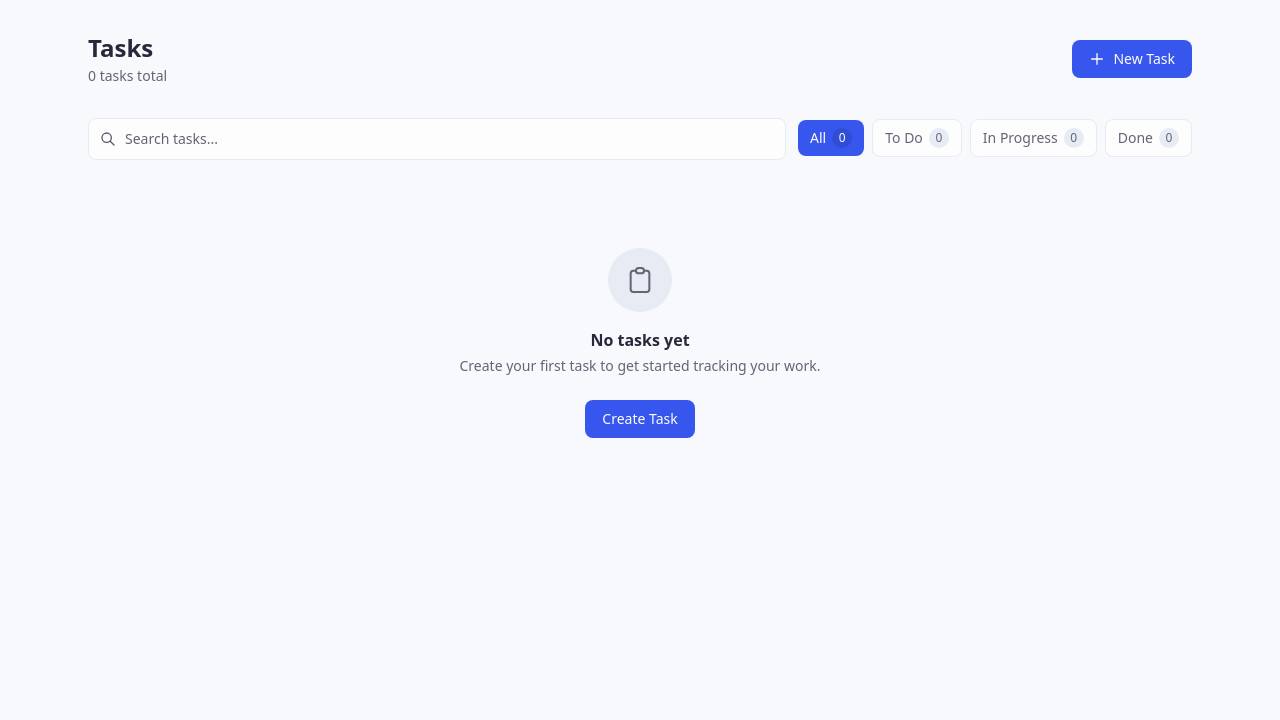
Scenario: Dashboard › closes create task modal when Cancel is clicked
The image size is (1280, 720).
Click the button "New Task".
click(1132, 59)  # box x1=1072 y1=40 x2=1192 y2=78
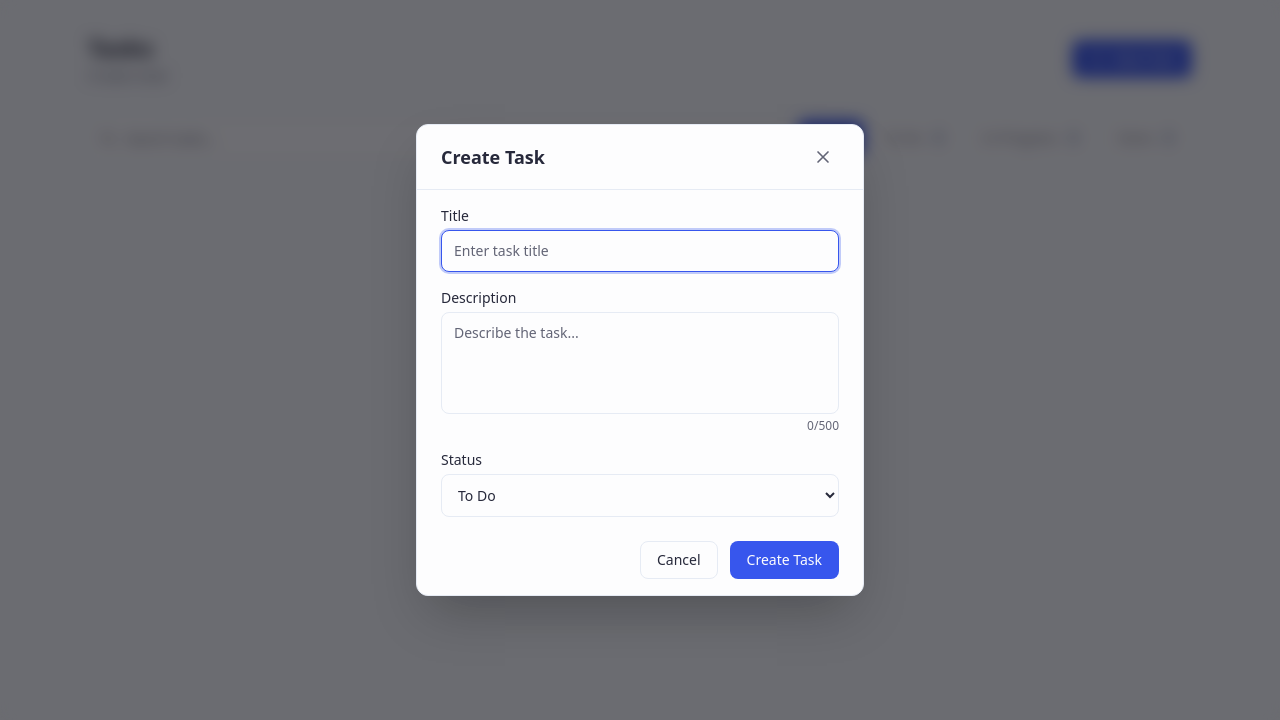
Click the button "Cancel".
click(679, 560)  # box x1=640 y1=541 x2=718 y2=579
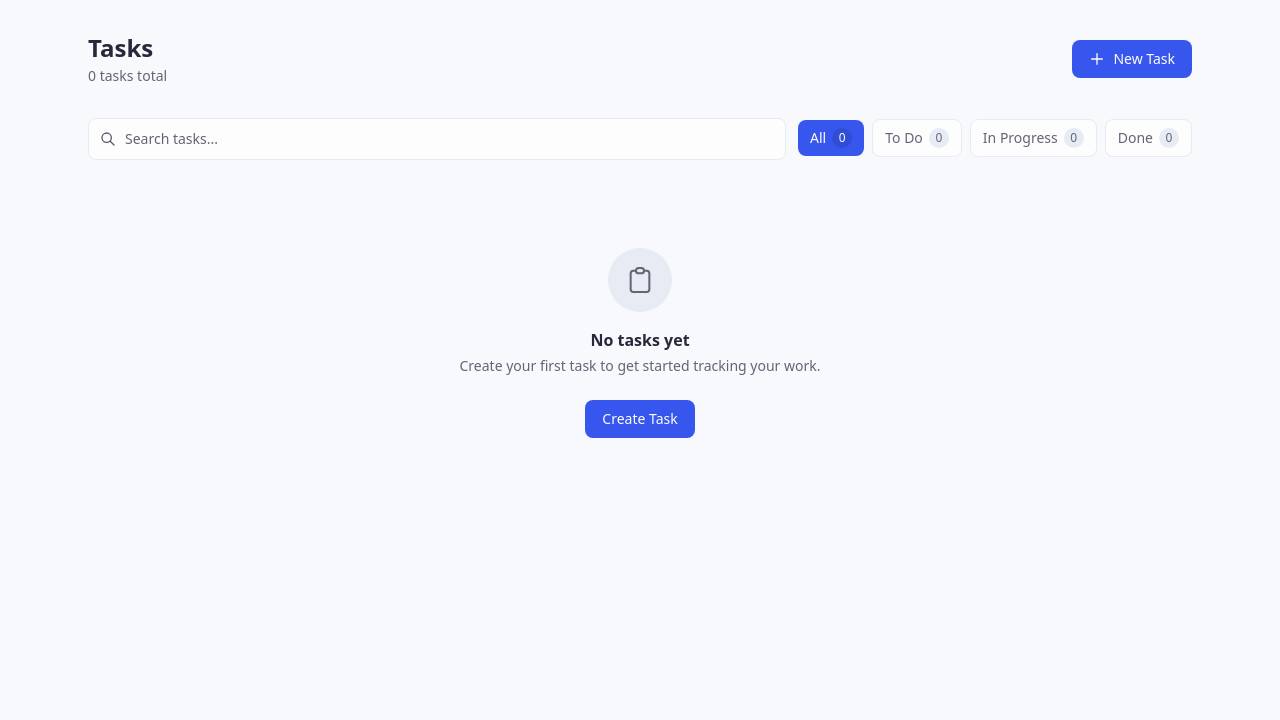
Expected: the dialog is gone
